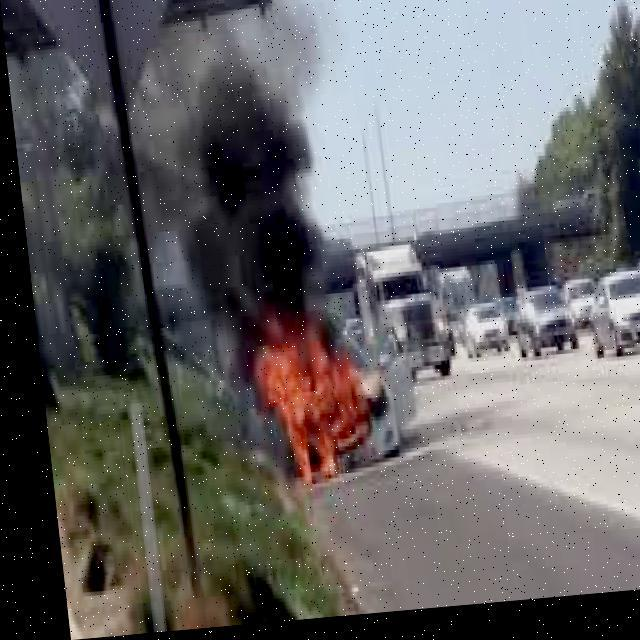Fire: (230, 305, 366, 492)
